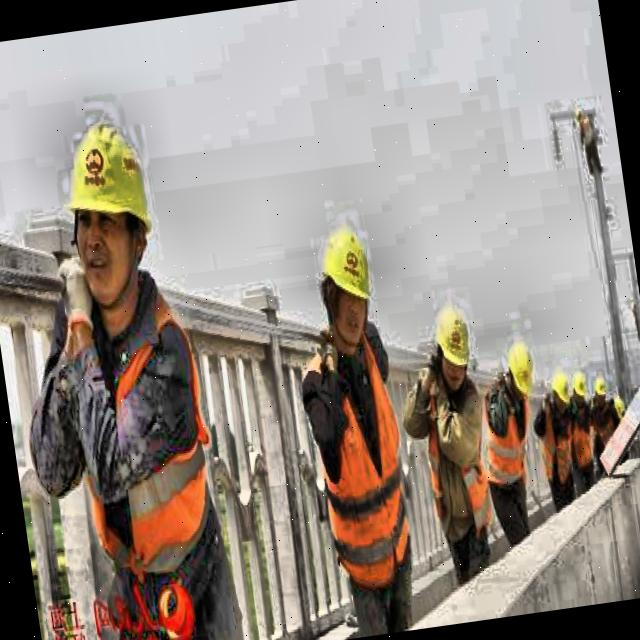helmet: (46, 86, 174, 324), (307, 202, 387, 360), (426, 292, 482, 398), (501, 334, 542, 409), (545, 366, 578, 423), (568, 371, 594, 412), (590, 372, 610, 410)
